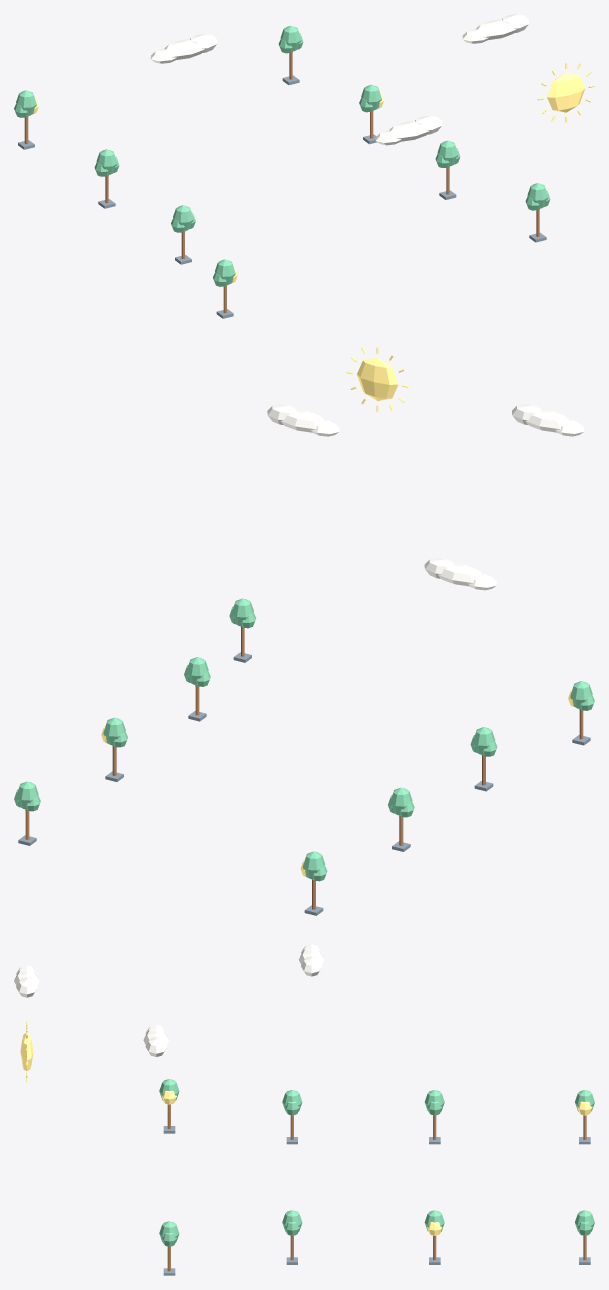
File: festival-garden.glb
The picture shows the model from 3 angles, top to bottom: view 1: azimuth 30°, elevation 25°; view 2: azimuth 150°, elevation 25°; view 3: azimuth 270°, elevation 25°; orthographic projection. The views are drawn at different scales.
Parts seen in each view (by area): view 1: garden original studio collection; view 2: garden original studio collection; view 3: garden original studio collection.
Part boxes in pixels (x1,y1,x2,y2): garden original studio collection: (14,14,594,318); garden original studio collection: (14,347,594,915); garden original studio collection: (14,944,594,1275).
Size of the model in its own units: 27.9 by 19.35 by 44.88.
